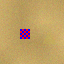structure: (42, 30, 56, 43)
